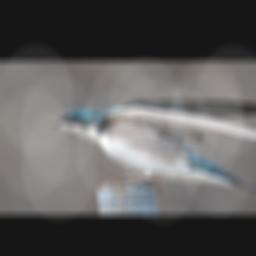Swallow: (46, 96, 256, 202)
